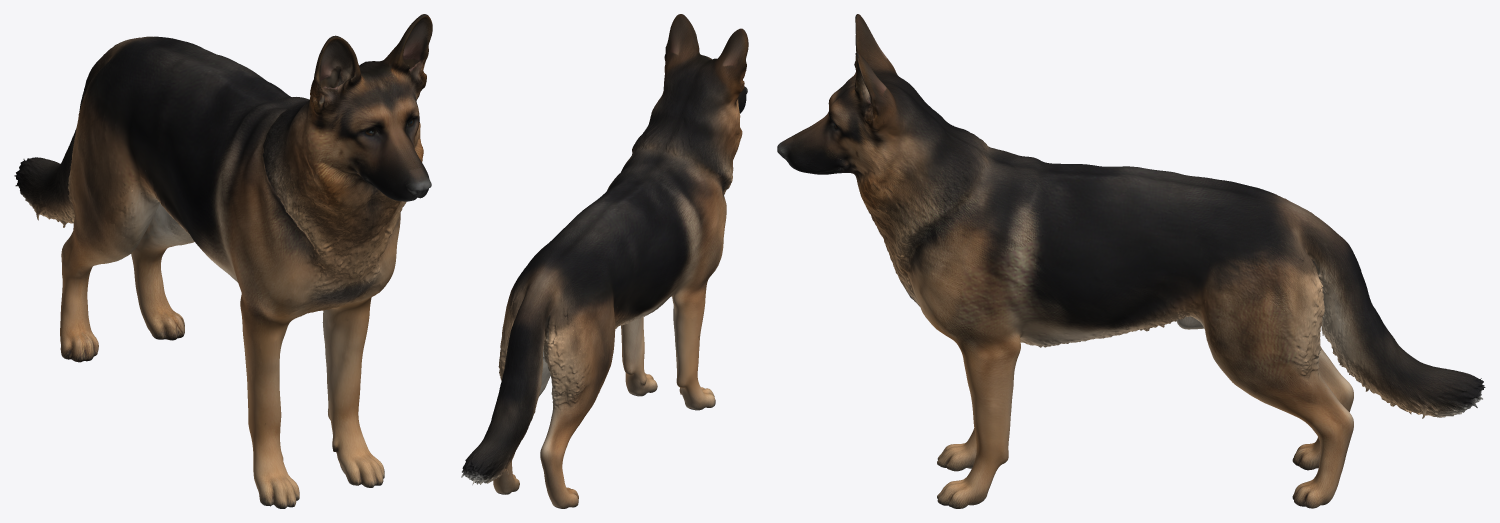
The model's file is berger-allemand-debout.glb.
3 views of the same model, side by side, from view 1: azimuth 30°, elevation 25°; view 2: azimuth 150°, elevation 25°; view 3: azimuth 270°, elevation 25° (orthographic). The views are drawn at different scales.
Bounding box in the file's own units: 0.3962 × 1.33 × 1.9.
Materials: 1 (1 with a texture image).
